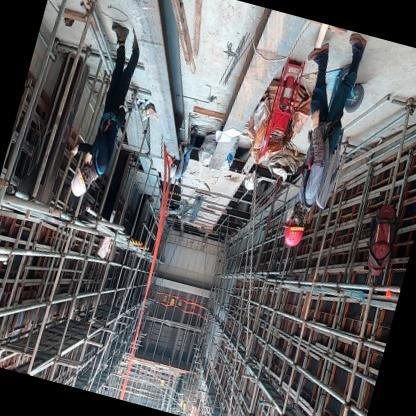no_safety-shoe: (271, 211, 312, 257), (65, 162, 92, 202)
safety-shoe: (104, 11, 134, 49), (303, 36, 334, 63), (344, 31, 372, 58)
